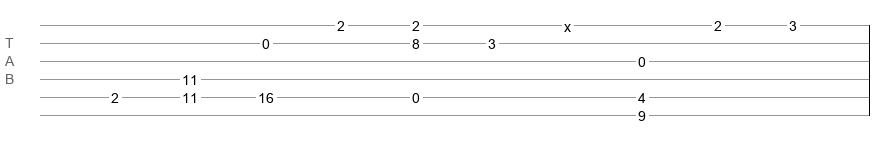0: (262, 36, 270, 46), (412, 90, 420, 100), (638, 54, 646, 64)
11: (182, 72, 198, 82), (182, 90, 198, 100)
16: (258, 90, 274, 100)
2: (111, 90, 119, 100), (337, 18, 345, 28), (412, 18, 420, 28), (714, 18, 722, 28)
3: (488, 36, 496, 46), (789, 18, 797, 28)
4: (638, 90, 646, 100)
8: (412, 36, 420, 46)
9: (638, 108, 646, 118)
x: (564, 19, 571, 27)
